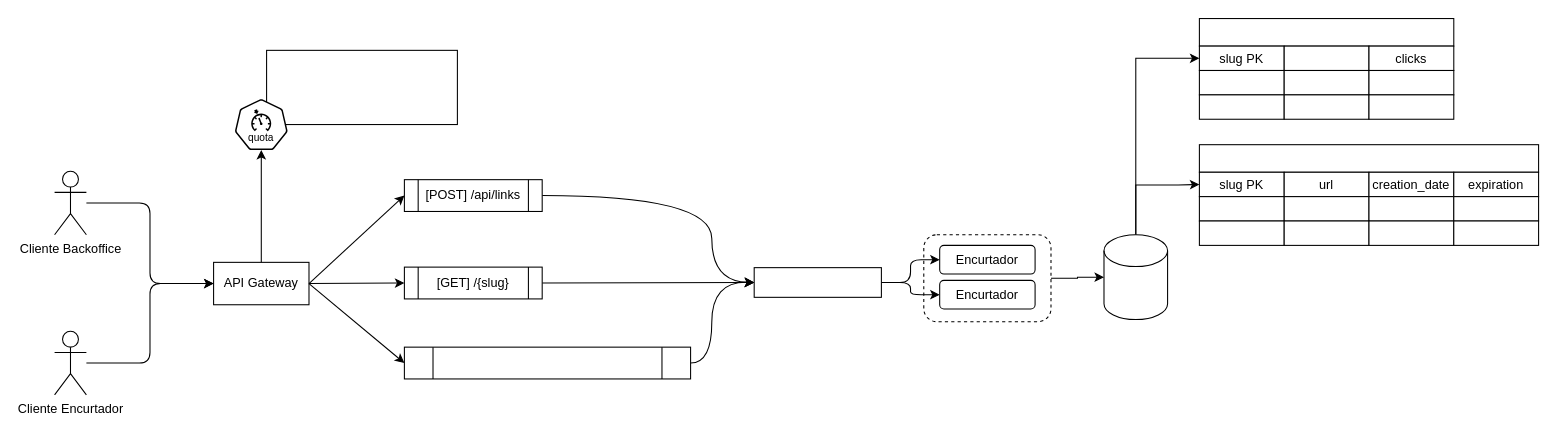
Image size: 1557x436. Some labels were removed from this diagram. Each missing label, with the centre of its shape:
"[GET] /{slug}/stats?from=YYYY-MM-DD&to=YYYY-MM-DD" belongs at point 547,362.
"API-KEY: 123123 USER: CLAUCO SCOPE: BACKOFFICE QUOTA_DAY: 100 LINKS" belongs at point 361,87.
"date PK" belongs at point 1326,57.
"Load Balancer" belongs at point 817,282.
"MySQL" belongs at point 1135,277.
"Tabela: clicks" belongs at point 1326,31.
"Tabela: links" belongs at point 1368,158.
